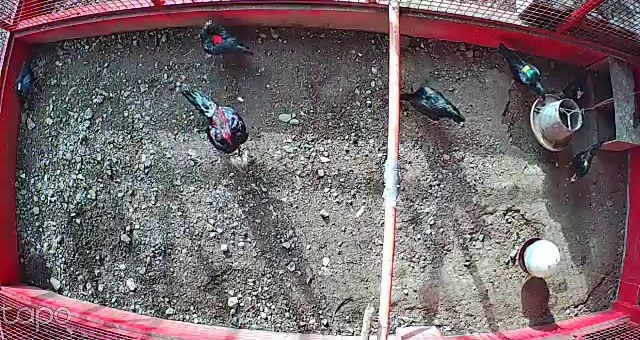Chicken: (495, 34, 550, 105), (396, 85, 469, 129), (197, 18, 253, 68), (559, 134, 604, 186), (12, 53, 45, 110), (557, 63, 595, 105)
Rooster: (181, 84, 256, 162)
Saddle_Color_Red: (211, 33, 221, 44)
Saddle_Color_White: (18, 83, 22, 89)
Saddle_Color_YellowGreen: (521, 63, 536, 74)
